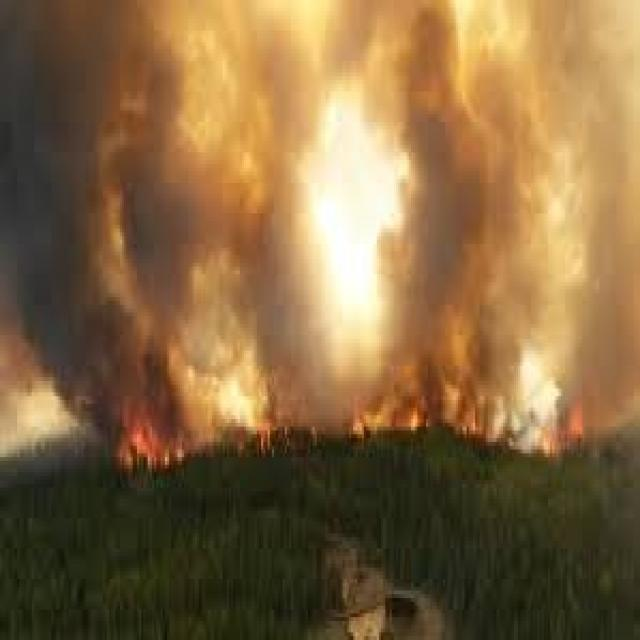Fire: (0, 328, 77, 461), (131, 420, 167, 467)
Smoke: (71, 31, 639, 320)
